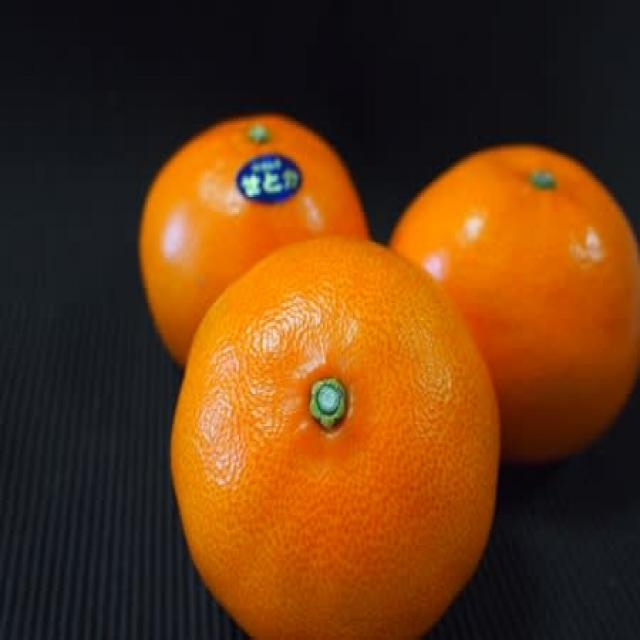Orange: (166, 238, 504, 640), (388, 150, 637, 458), (140, 116, 370, 356)
